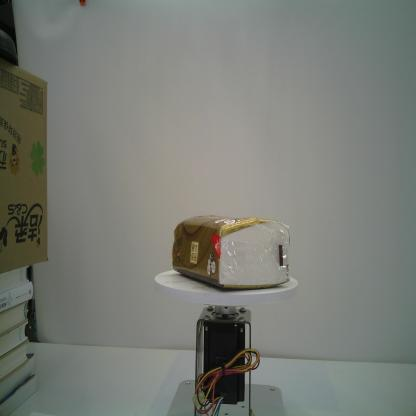Tissue: (171, 213, 291, 290)
